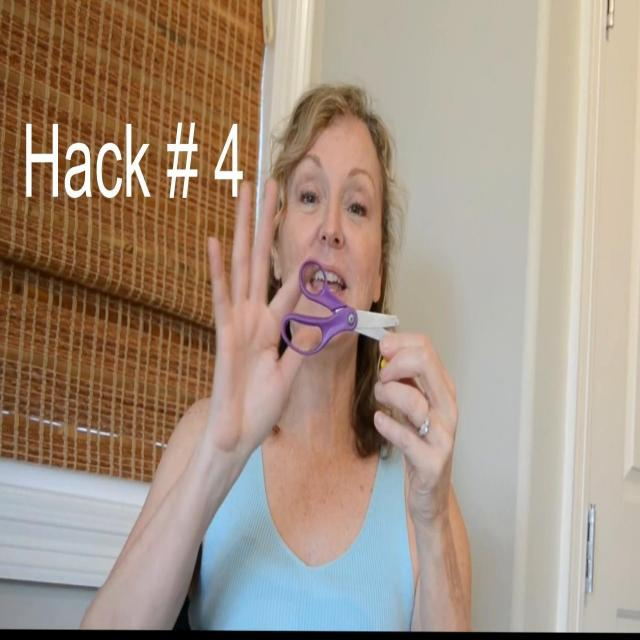scissor: (281, 257, 398, 356)
